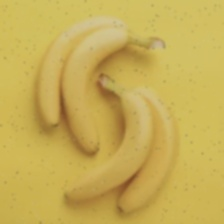banana: (12, 1, 170, 201)
